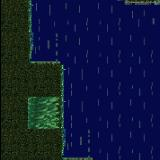Interaction: (48, 81, 74, 160), (17, 0, 42, 81), (42, 56, 74, 81)
Slow: (65, 60, 160, 160), (32, 0, 160, 60), (27, 98, 59, 130)
